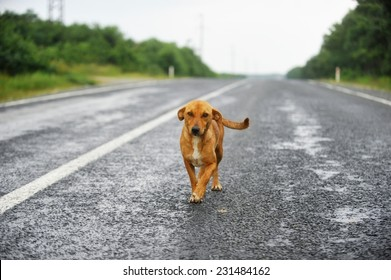Dog: (162, 92, 260, 205)
